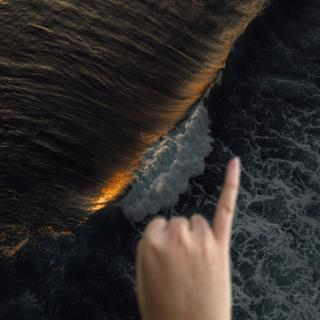Fine: (121, 141, 264, 316)
